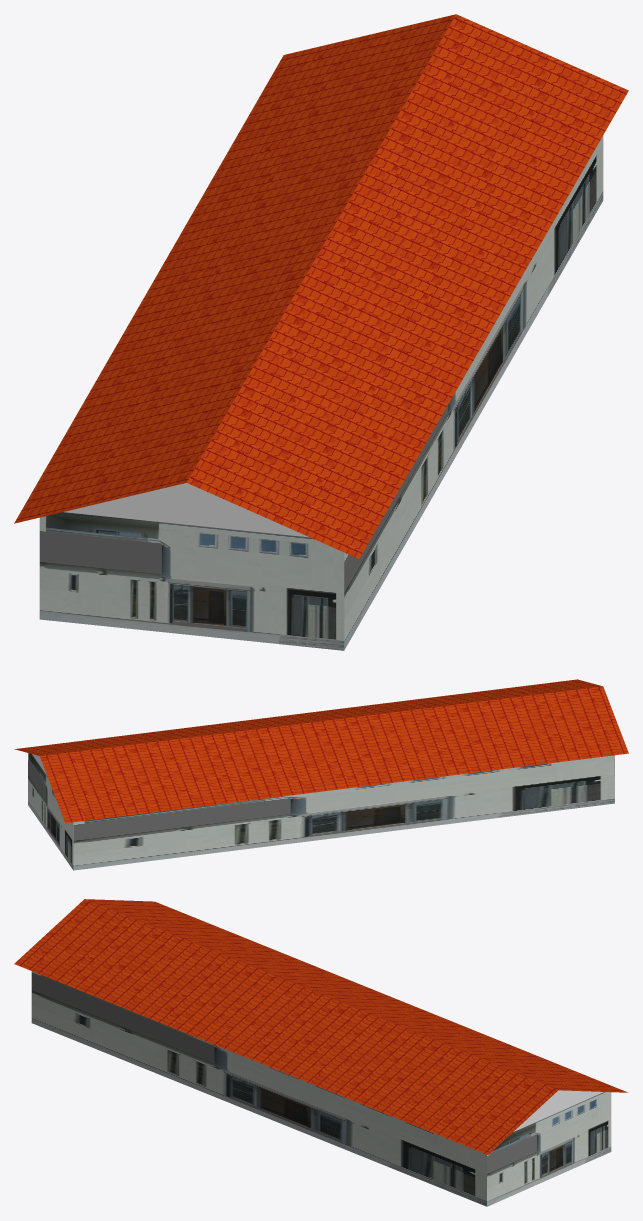
3 views of the same model, one above another, from view 1: azimuth 30°, elevation 25°; view 2: azimuth 150°, elevation 25°; view 3: azimuth 270°, elevation 25° (orthographic). The views are drawn at different scales.
Visible parts, largest first — view 1: CityEngineMaterial_12_m, CityEngineMaterial_11_m, CityEngineMaterial_3_m; view 2: CityEngineMaterial_12_m, CityEngineMaterial_11_m; view 3: CityEngineMaterial_12_m, CityEngineMaterial_11_m, CityEngineMaterial_3_m.
Boxes of the visible parts, x1,y1,x2,y2 form: CityEngineMaterial_12_m: [14, 14, 628, 558]; CityEngineMaterial_11_m: [39, 135, 603, 650]; CityEngineMaterial_3_m: [64, 483, 309, 537]; CityEngineMaterial_12_m: [14, 679, 628, 823]; CityEngineMaterial_11_m: [28, 753, 614, 870]; CityEngineMaterial_12_m: [14, 899, 627, 1154]; CityEngineMaterial_11_m: [31, 971, 611, 1206]; CityEngineMaterial_3_m: [513, 1090, 603, 1131].
Size of the model in its own units: 46.72 by 7.97 by 47.88.
